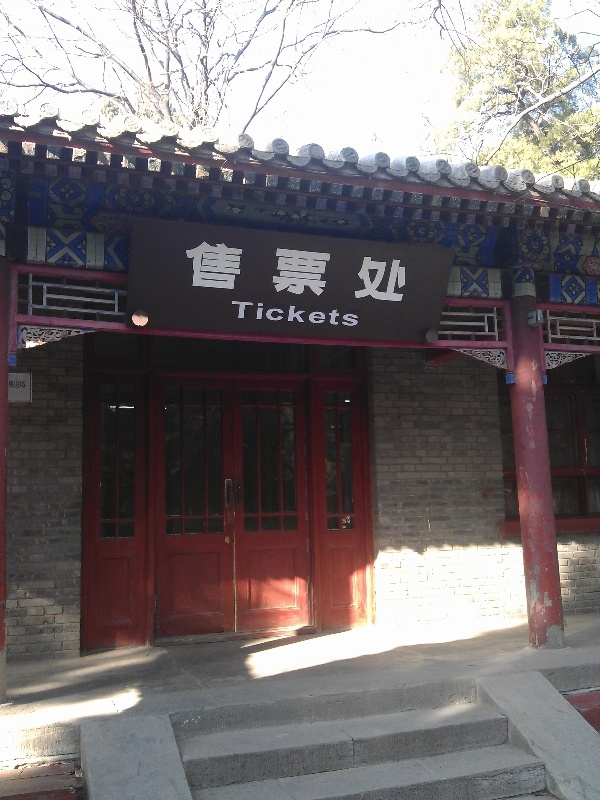text: (193, 239, 208, 305), (209, 239, 224, 305), (225, 239, 240, 305), (241, 239, 256, 305), (257, 239, 272, 305), (273, 239, 288, 305), (289, 239, 304, 305), (305, 239, 320, 305), (321, 239, 336, 305), (337, 239, 352, 305), (353, 239, 368, 305), (369, 239, 384, 305), (385, 239, 400, 305), (401, 239, 411, 305), (184, 239, 192, 305), (241, 299, 256, 328), (257, 299, 272, 328), (273, 299, 288, 328), (289, 299, 304, 328), (305, 299, 320, 328), (321, 299, 336, 328), (337, 299, 352, 328), (353, 299, 363, 328), (232, 299, 240, 328), (17, 381, 27, 388), (9, 381, 16, 388)
